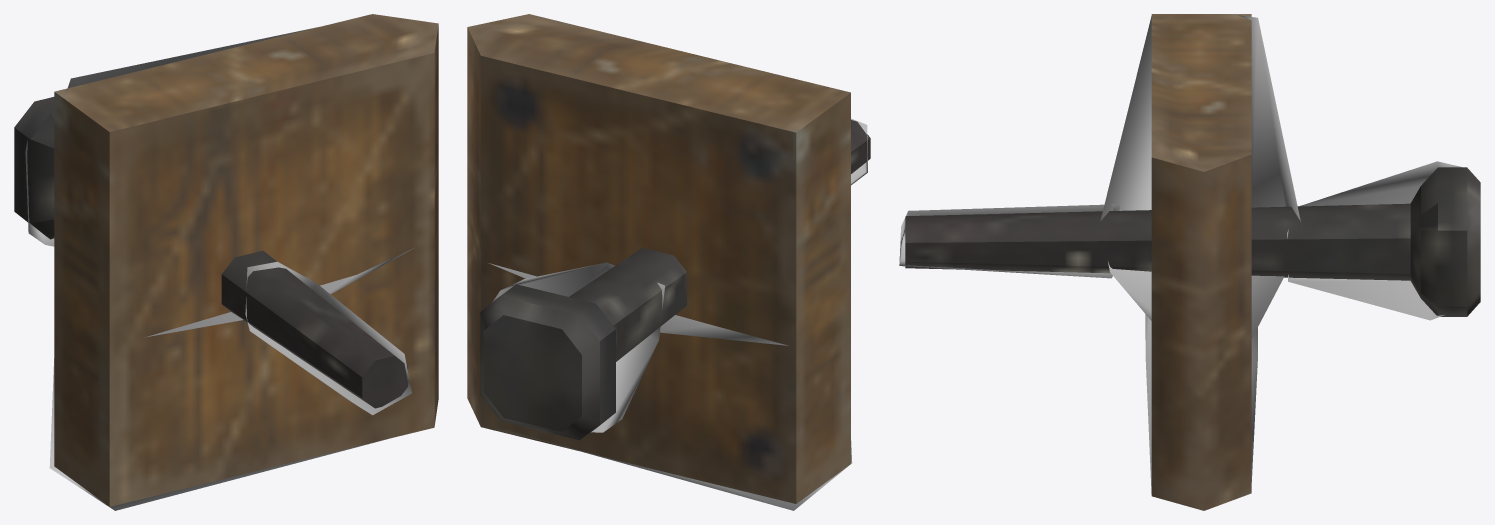
File: SM_Wall_Peg.gltf
3 views of the same model, side by side, from view 1: azimuth 30°, elevation 25°; view 2: azimuth 150°, elevation 25°; view 3: azimuth 270°, elevation 25° (orthographic). The views are drawn at different scales.
Parts seen in each view (by area): view 1: SM_Wall_Peg_LOD0, SM_Wall_Peg_ConvexHulls; view 2: SM_Wall_Peg_LOD0, SM_Wall_Peg_ConvexHulls; view 3: SM_Wall_Peg_LOD0, SM_Wall_Peg_ConvexHulls.
Part boxes in pixels (x1,y1,x2,y2): SM_Wall_Peg_LOD0: (14, 14, 438, 506); SM_Wall_Peg_ConvexHulls: (25, 27, 416, 510); SM_Wall_Peg_LOD0: (467, 14, 870, 503); SM_Wall_Peg_ConvexHulls: (488, 118, 867, 510); SM_Wall_Peg_LOD0: (905, 14, 1480, 510); SM_Wall_Peg_ConvexHulls: (899, 15, 1461, 493).
Size of what is drawn, in the model's own units: 0.1659 by 0.1697 by 0.257.
